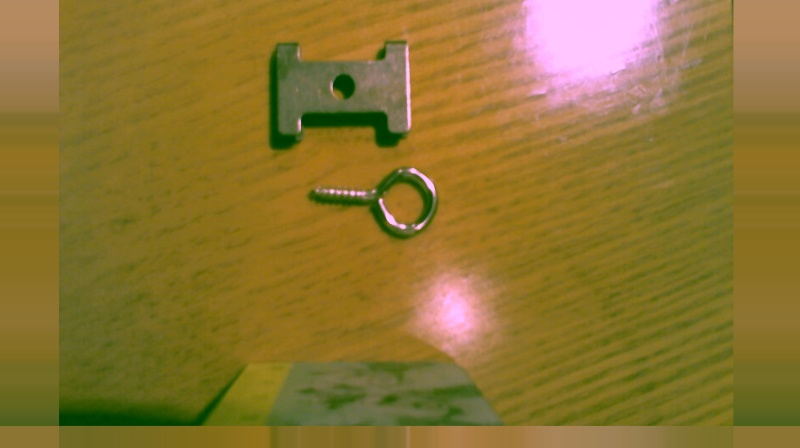O001: (304, 164, 442, 237)
O002: (268, 34, 414, 148)
